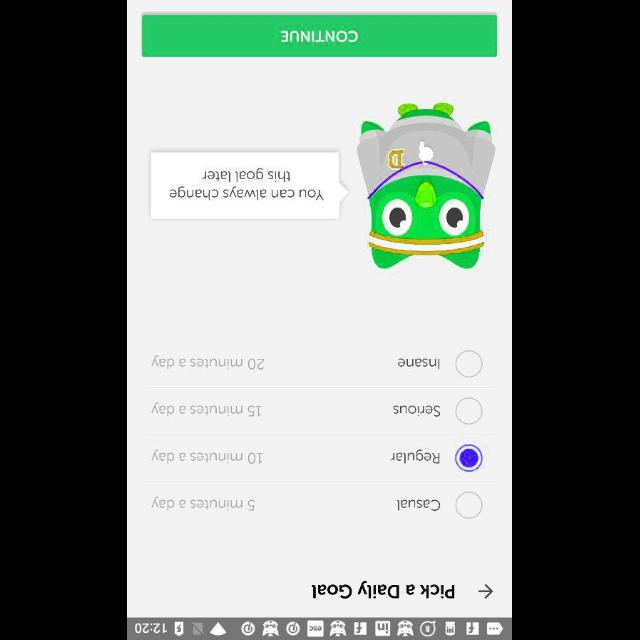checkbox: (456, 350, 484, 378), (456, 492, 484, 518), (457, 445, 483, 471), (457, 398, 483, 424)
icon: (478, 584, 494, 598)
image: (152, 102, 496, 268)
text: (312, 580, 456, 598), (152, 354, 266, 370), (152, 448, 264, 464), (152, 402, 262, 418), (152, 496, 256, 512), (391, 450, 441, 464), (394, 405, 441, 417), (397, 499, 441, 511), (398, 358, 440, 370)
textbutton: (142, 14, 498, 58)
uppertaskbar: (128, 617, 512, 639)
